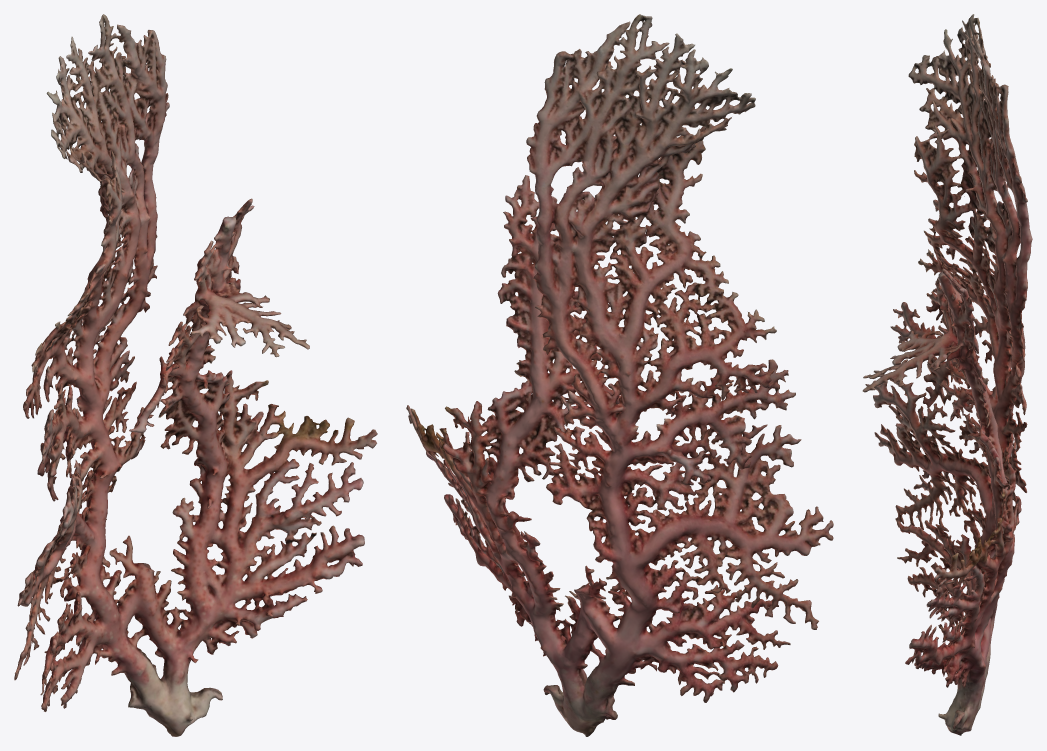
The model's file is coral stylaster.glb.
The picture shows the model from 3 angles, left to right: view 1: azimuth 30°, elevation 25°; view 2: azimuth 150°, elevation 25°; view 3: azimuth 270°, elevation 25°; orthographic projection. The views are drawn at different scales.
Parts seen in each view (by area): view 1: Object_4, Object_5; view 2: Object_4, Object_5; view 3: Object_4, Object_5.
Boxes of the visible parts, box(x1,y1,x2,y2) form: Object_4: box(14, 14, 377, 736); Object_5: box(15, 102, 232, 675); Object_4: box(406, 14, 833, 736); Object_5: box(527, 137, 826, 544); Object_4: box(862, 14, 1032, 735); Object_5: box(879, 141, 1024, 521).
Size of the model in its own units: 0.0949 by 0.1702 by 0.0381.
1 material, 1 textured.
